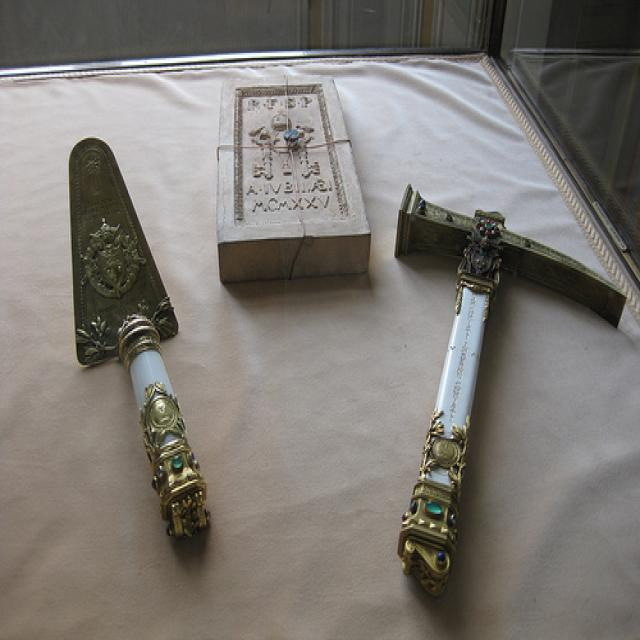hammer: (390, 151, 624, 605)
